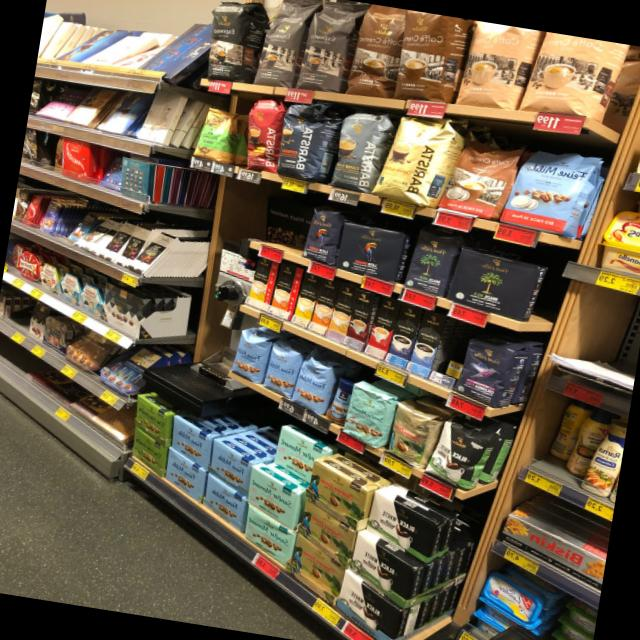Athiopien Bohne: (191, 103, 242, 164)
BM Bohne: (400, 224, 464, 299)
BM Gemahlen: (444, 246, 544, 324)
BW Bohne: (422, 417, 493, 494)
BW Gemahlen: (365, 490, 441, 565), (350, 532, 417, 609), (335, 570, 402, 640)
Barista CB: (369, 114, 464, 210)
Barista CC: (324, 108, 394, 195)
Barista Espresso: (275, 102, 333, 185)
Barista Kolumbien: (240, 97, 287, 175)
C Fino Bohne: (452, 334, 521, 411)
CC Vollmundig: (436, 136, 527, 223)
Colombia BB Bohne: (381, 400, 439, 471)
Colombia BB Gemahlen: (304, 459, 368, 530), (286, 533, 345, 605), (297, 500, 356, 569)
Empty Shelf: (244, 190, 308, 257), (432, 317, 473, 379)
Espresso Aromatisch: (293, 0, 368, 94), (251, 0, 322, 88)
Espresso Kraftig: (200, 0, 265, 86)
FM 36 Pads: (497, 144, 607, 241)
FM Bohne: (289, 352, 339, 416), (259, 340, 305, 400), (230, 326, 272, 386)
Herzhatfe Mundig: (130, 427, 168, 479), (133, 394, 169, 448)
LG Bohne: (297, 203, 346, 268)
LG Gemahlen: (335, 219, 408, 285)
SM Bohne: (340, 382, 396, 452)
SM Gemahlen: (246, 466, 300, 531), (244, 502, 296, 568), (202, 472, 249, 534), (207, 438, 252, 499), (164, 446, 206, 504), (170, 415, 212, 471)
Simo CCMild: (248, 257, 279, 312)
Simo CCMild bigpack: (291, 271, 320, 328)
Simo CCVollmundig: (268, 262, 304, 321)
Simo CCVollmundig bigpack: (308, 277, 339, 337)
Simo Decaff: (327, 282, 356, 344)
Simo Es Brazil: (364, 296, 401, 360)
Simo Es Caramel: (344, 289, 374, 351)
Simo Es Kraft: (385, 303, 423, 369)
Simo Es Vanilla: (406, 310, 447, 378)
